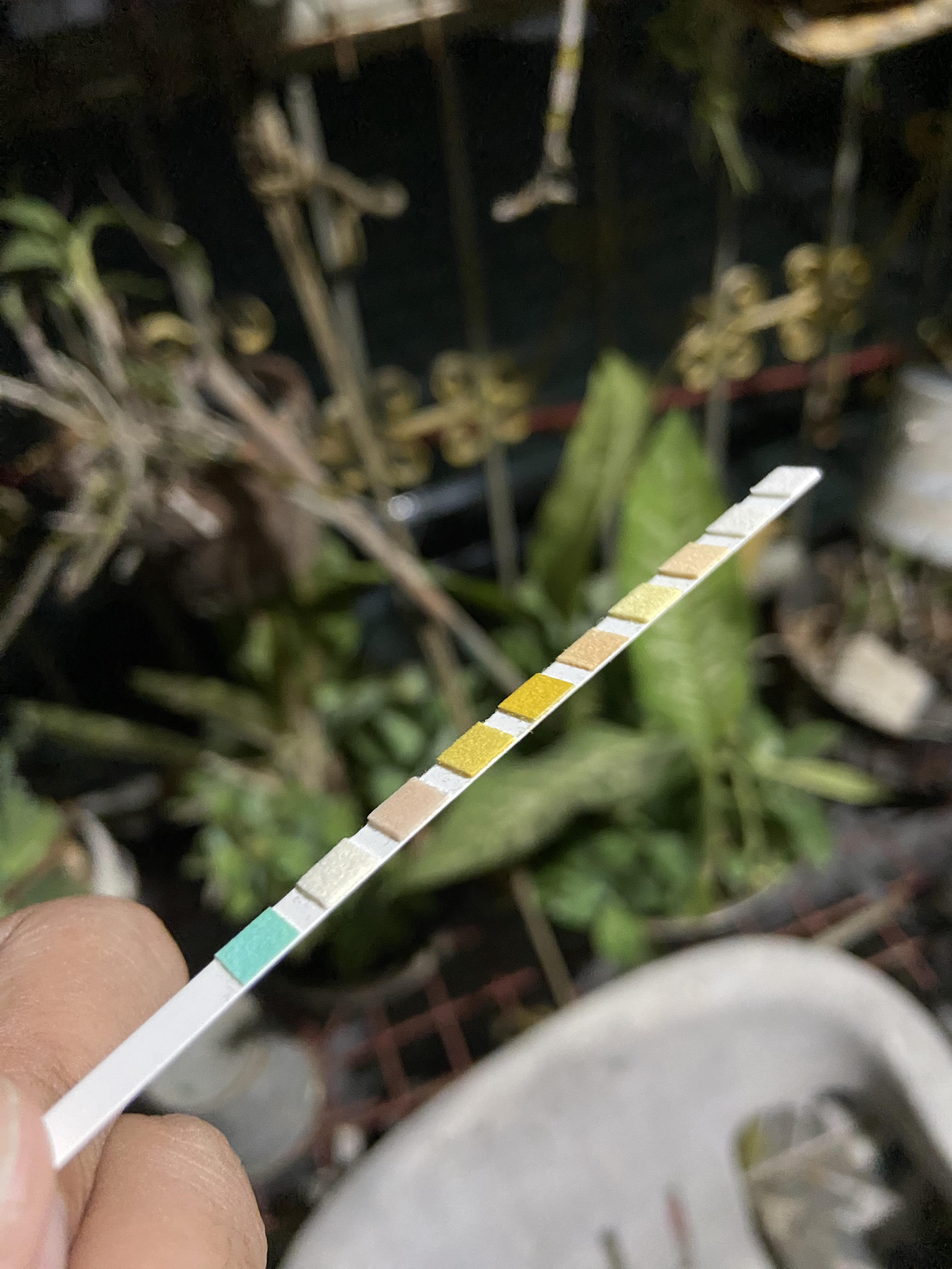Bilirubin: (322, 858, 360, 886)
Blood: (519, 682, 560, 703)
Glucose: (242, 928, 281, 958)
Ketone: (390, 794, 430, 817)
Leukocytes: (771, 473, 800, 489)
Nitrite: (730, 507, 760, 528)
Protein: (626, 590, 667, 611)
SpGravity: (457, 739, 497, 760)
Urobilinogen: (679, 548, 711, 568)
pH: (580, 637, 613, 657)
strip: (44, 471, 822, 1171)
